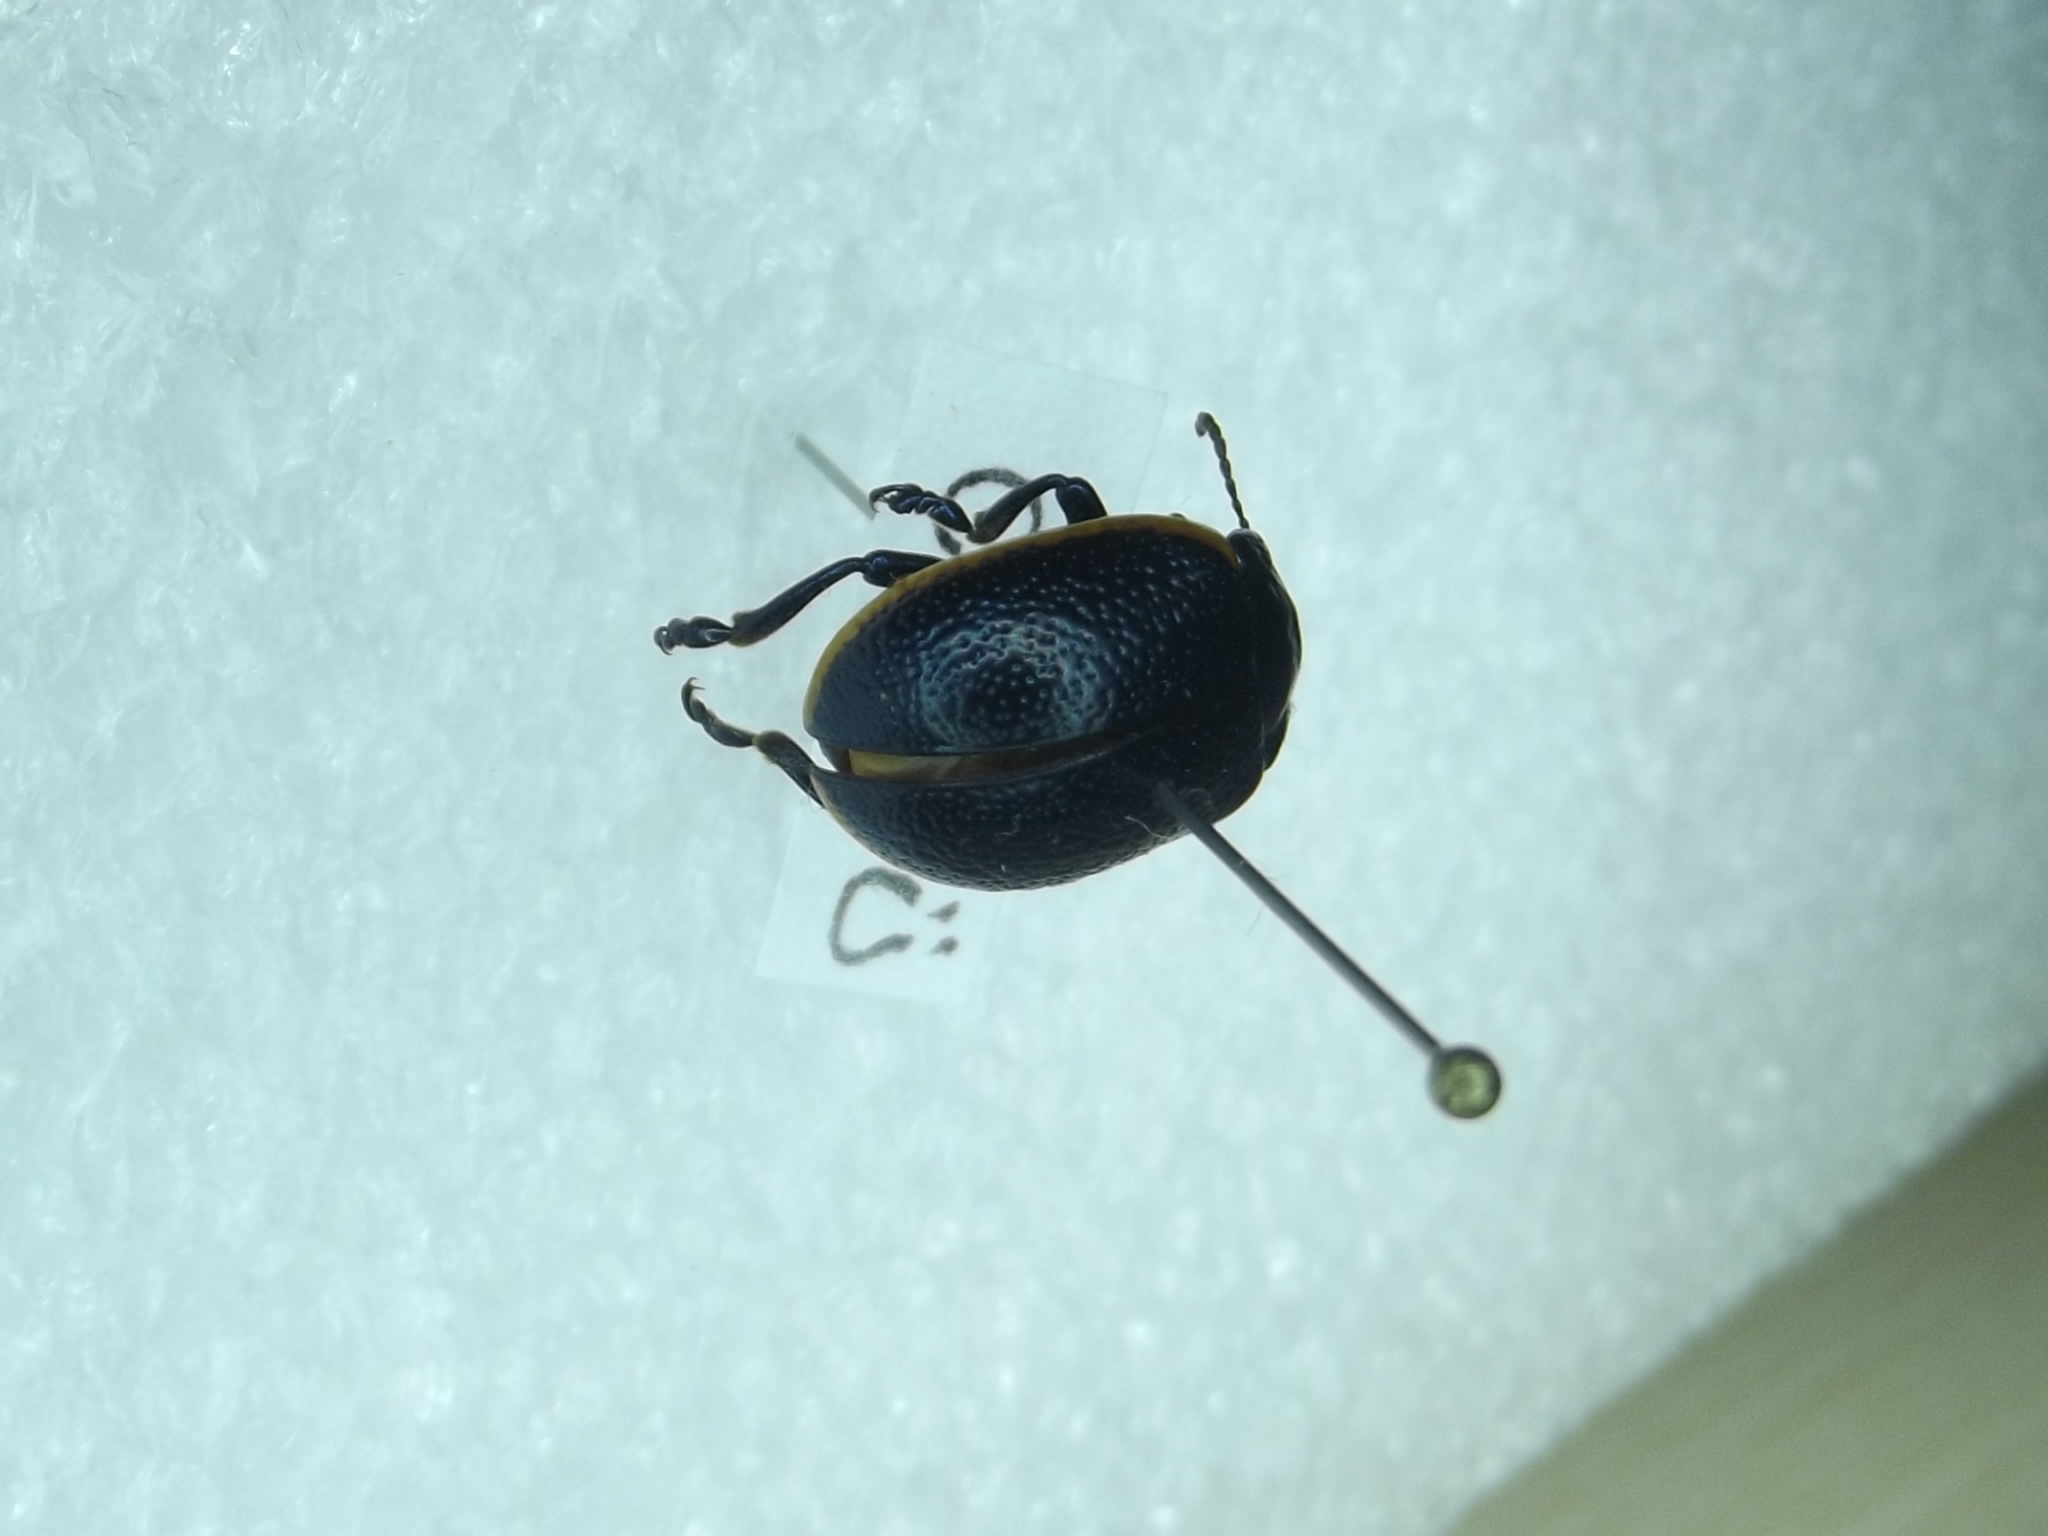Chrysolina_gypsophila: (639, 402, 1306, 895)
